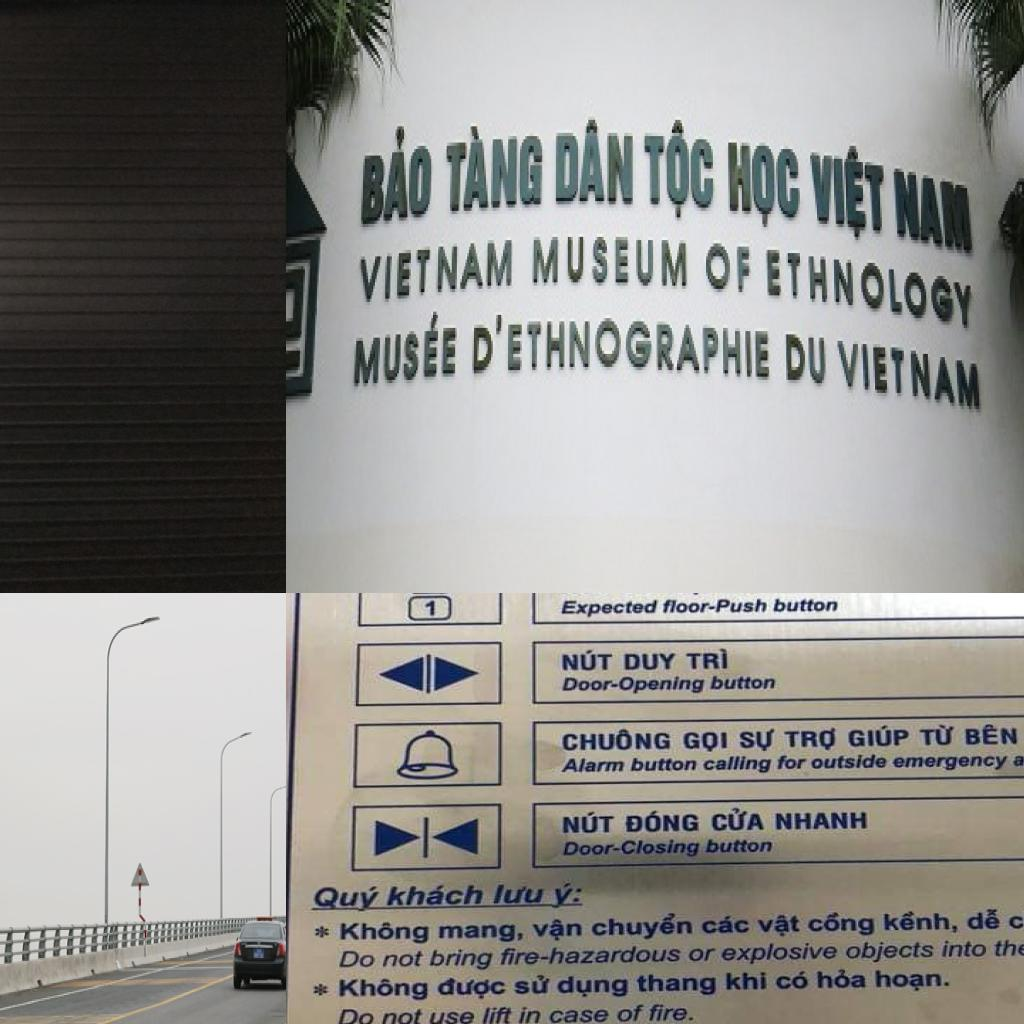text: (469, 308, 776, 396), (762, 244, 976, 334), (353, 237, 515, 308), (351, 308, 471, 400), (441, 116, 544, 220), (529, 234, 689, 292), (803, 133, 889, 240), (356, 113, 431, 227), (892, 162, 976, 263), (551, 117, 638, 214), (641, 113, 715, 227), (721, 133, 800, 230), (498, 946, 685, 966), (561, 837, 703, 861), (697, 237, 754, 295), (560, 675, 708, 696), (589, 913, 696, 942), (719, 942, 842, 967), (783, 324, 829, 390), (384, 883, 491, 909), (560, 730, 674, 753), (556, 597, 660, 621), (336, 977, 431, 1003), (338, 921, 434, 946), (889, 754, 1013, 773), (659, 596, 770, 617), (842, 941, 938, 965), (310, 885, 386, 913), (635, 973, 720, 998), (772, 811, 870, 832), (881, 910, 962, 935), (806, 912, 876, 940), (556, 975, 634, 1000), (622, 811, 703, 835), (437, 923, 525, 945), (436, 975, 510, 1001), (872, 970, 953, 993), (707, 806, 767, 834), (848, 724, 911, 750), (427, 948, 495, 972), (701, 755, 777, 776), (781, 726, 840, 752), (557, 648, 616, 673), (810, 753, 889, 771), (561, 811, 620, 835), (491, 883, 548, 907), (531, 918, 585, 943), (703, 838, 777, 856), (708, 674, 778, 693), (963, 724, 1020, 747), (621, 651, 680, 673), (683, 646, 731, 672), (558, 756, 627, 774), (629, 756, 702, 773), (700, 914, 753, 937), (939, 939, 992, 962), (814, 969, 869, 991), (682, 730, 732, 754), (756, 913, 802, 939), (734, 727, 778, 753), (772, 598, 842, 614), (546, 1007, 611, 1024), (723, 969, 770, 992), (646, 1003, 697, 1024), (549, 882, 585, 911), (916, 723, 956, 749), (380, 949, 429, 970), (338, 949, 384, 971), (512, 973, 552, 997), (965, 908, 1003, 932), (774, 969, 811, 992), (333, 1006, 378, 1024), (380, 1006, 425, 1024), (479, 1004, 518, 1024), (425, 1010, 479, 1024), (991, 938, 1024, 960), (616, 1002, 647, 1024), (774, 754, 810, 771), (688, 946, 718, 964), (515, 1005, 543, 1024), (1006, 910, 1024, 935), (424, 600, 440, 618)
